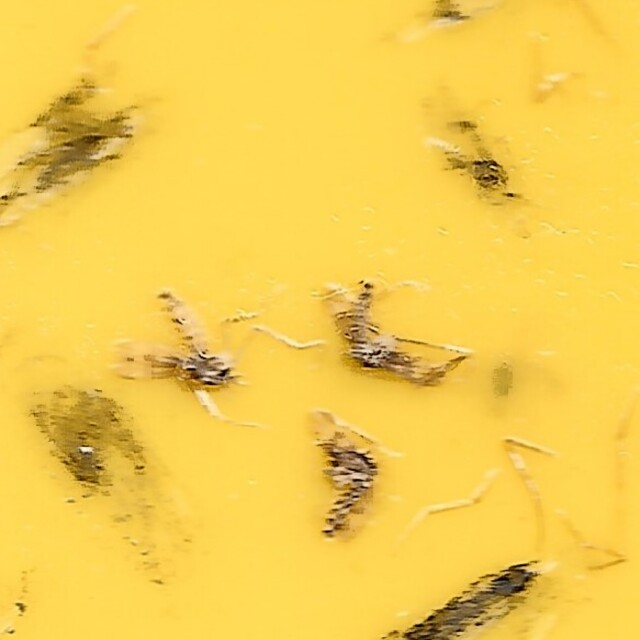Nematocera: (307, 272, 470, 395), (110, 290, 250, 402), (429, 100, 530, 214), (303, 404, 384, 540)
